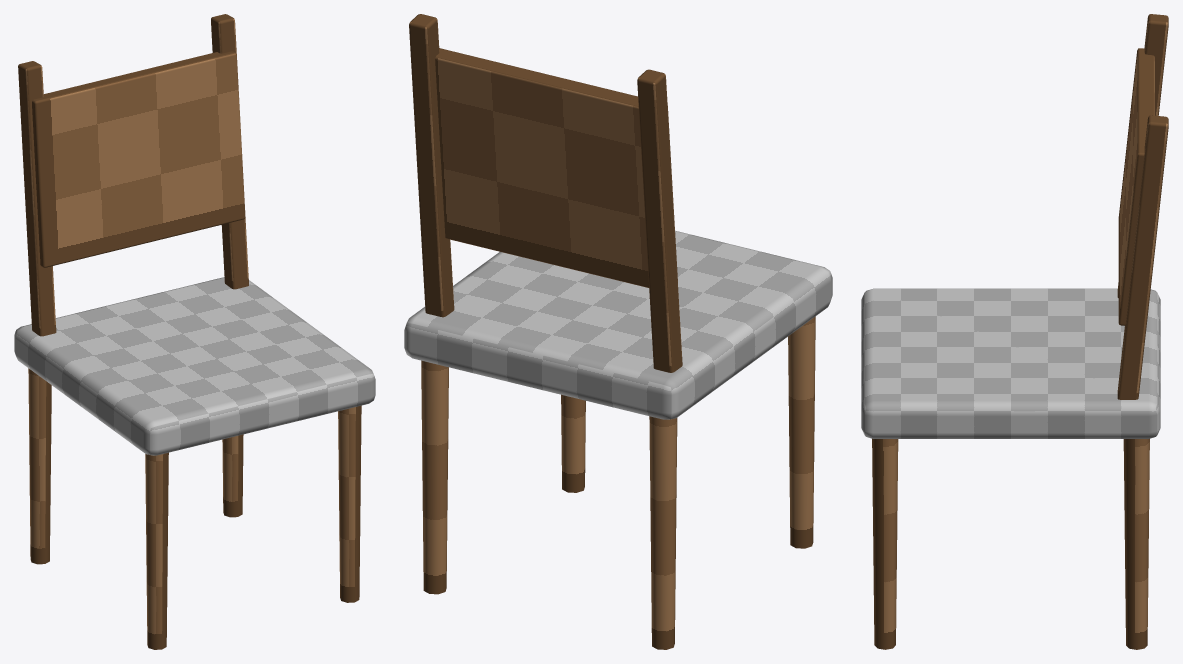
File: chair.glb
3 views of the same model, side by side, from view 1: azimuth 30°, elevation 25°; view 2: azimuth 150°, elevation 25°; view 3: azimuth 270°, elevation 25° (orthographic). The views are drawn at different scales.
Visible parts, largest first — view 1: dyn_wood_variant, dyn_velvet_variant; view 2: dyn_wood_variant, dyn_velvet_variant; view 3: dyn_velvet_variant, dyn_wood_variant.
Boxes of the visible parts, <box> form: dyn_wood_variant: <box>18,14,361,649</box>; dyn_velvet_variant: <box>14,277,375,455</box>; dyn_wood_variant: <box>409,14,815,649</box>; dyn_velvet_variant: <box>404,230,832,419</box>; dyn_velvet_variant: <box>861,288,1160,438</box>; dyn_wood_variant: <box>872,14,1168,649</box>.
Size of the model in its own units: 0.4801 by 0.9704 by 0.5135.
Materials: 2 (2 with a texture image).
